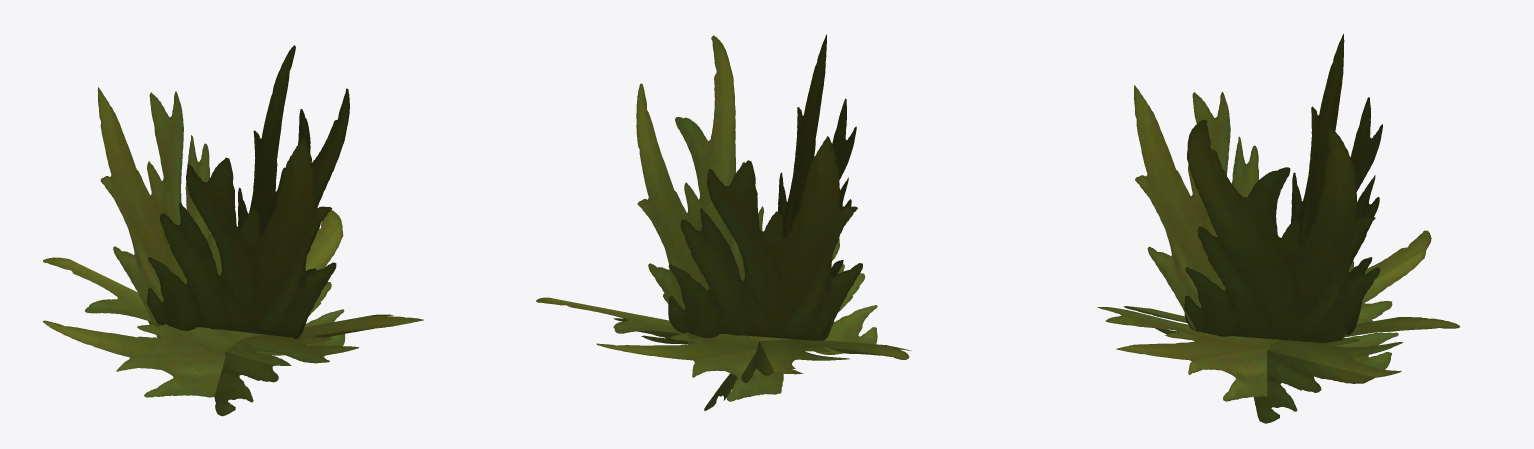
Rendered from grass_03.fbx.
3 views of the same model, side by side, from view 1: azimuth 30°, elevation 25°; view 2: azimuth 150°, elevation 25°; view 3: azimuth 270°, elevation 25° (orthographic). The views are drawn at different scales.
Visible parts, largest first — view 1: obj0.034; view 2: obj0.034; view 3: obj0.034.
Boxes of the visible parts, x1,y1,x2,y2 form: obj0.034: (43, 45, 423, 416); obj0.034: (536, 34, 911, 410); obj0.034: (1097, 34, 1459, 423).
Bounding box in the file's own units: 1.52 × 1.06 × 1.56.
